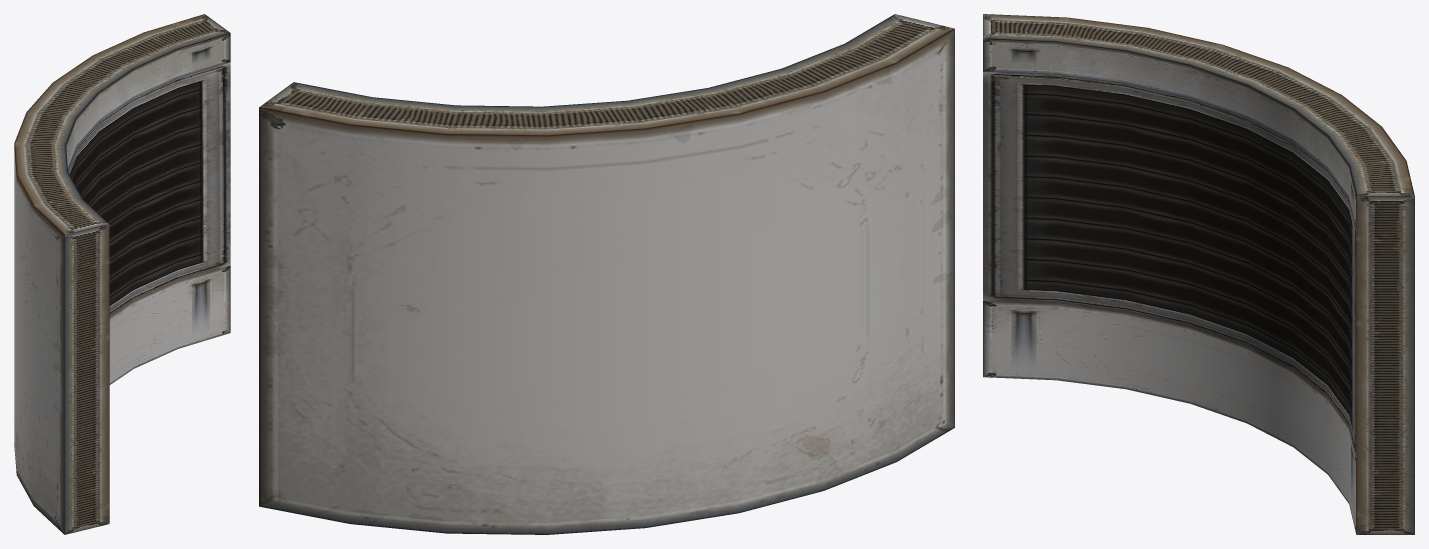
Rendered from scifi_wall_curve2_4.FBX.
The picture shows the model from 3 angles, left to right: view 1: azimuth 30°, elevation 25°; view 2: azimuth 150°, elevation 25°; view 3: azimuth 270°, elevation 25°; orthographic projection. The views are drawn at different scales.
Visible parts, largest first — view 1: Plane109; view 2: Plane109; view 3: Plane109.
Part boxes in pixels (left/top/right/bottom): Plane109: left=14, top=14, right=230, bottom=534; Plane109: left=259, top=14, right=954, bottom=534; Plane109: left=983, top=14, right=1414, bottom=534.
Size of the model in its own units: 294 by 254 by 294.
